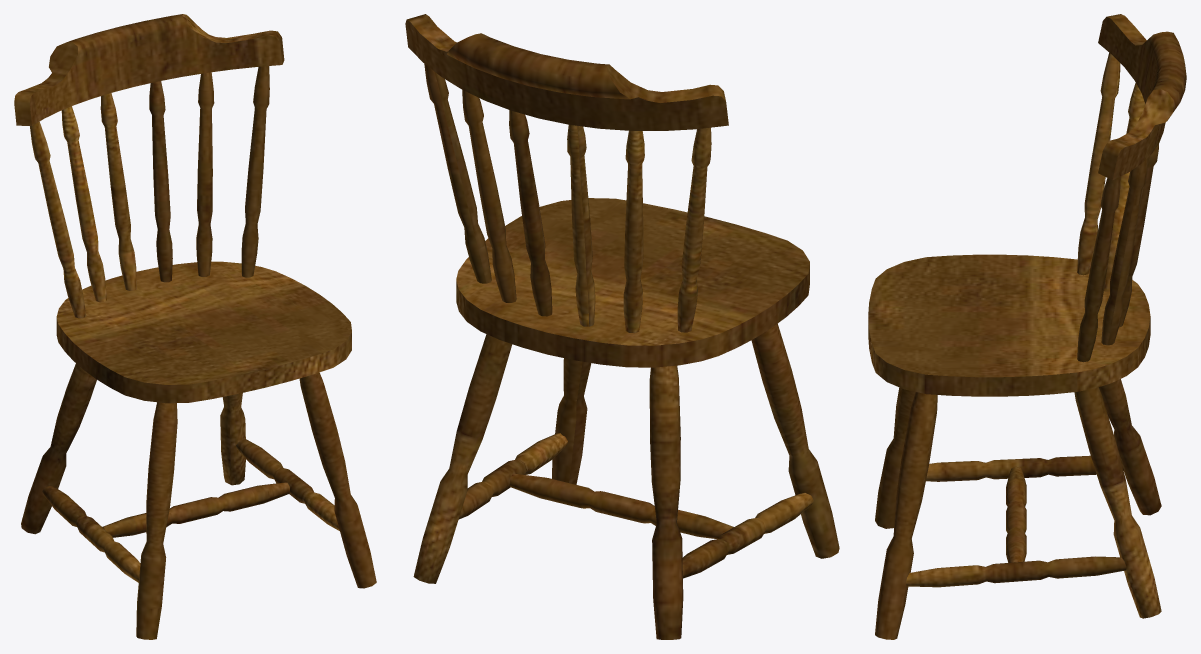
3 renders of one model, left to right at view 1: azimuth 30°, elevation 25°; view 2: azimuth 150°, elevation 25°; view 3: azimuth 270°, elevation 25°, orthographic. The views are drawn at different scales.
Parts seen in each view (by area): view 1: Object_3; view 2: Object_3; view 3: Object_3.
Part boxes in pixels (box(x1,y1,x2,y2)): Object_3: box(14, 14, 376, 639); Object_3: box(405, 14, 839, 639); Object_3: box(868, 14, 1186, 639).
Size of the model in its own units: 0.5514 by 0.9624 by 0.533.
Materials: 1 (1 with a texture image).
